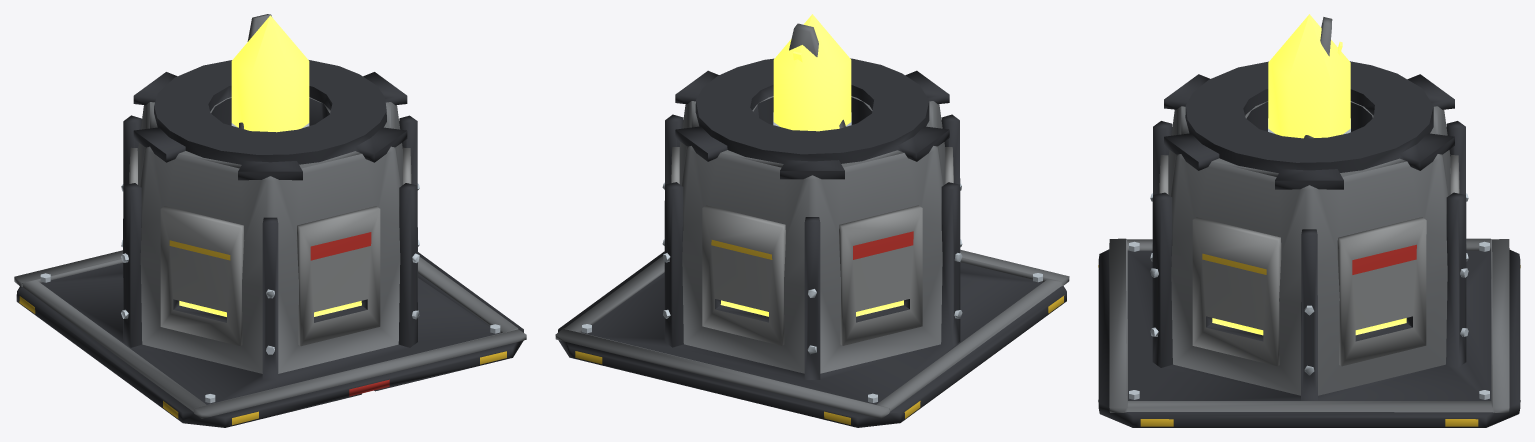
File: R4M_Blink_LOD1.fbx
3 views of the same model, side by side, from view 1: azimuth 30°, elevation 25°; view 2: azimuth 150°, elevation 25°; view 3: azimuth 270°, elevation 25° (orthographic). The views are drawn at different scales.
Parts seen in each view (by area): view 1: R4M_Blink_Housing_LOD1, R4M_Blink_Crystal_LOD1; view 2: R4M_Blink_Housing_LOD1, R4M_Blink_Crystal_LOD1, R4M_Blink_Petal_1_LOD1; view 3: R4M_Blink_Housing_LOD1, R4M_Blink_Crystal_LOD1, R4M_Blink_Petal_1_LOD1.
Part boxes in pixels (x1,y1,x2,y2): R4M_Blink_Housing_LOD1: [14, 60, 526, 427]; R4M_Blink_Crystal_LOD1: [231, 15, 309, 132]; R4M_Blink_Housing_LOD1: [555, 58, 1069, 427]; R4M_Blink_Crystal_LOD1: [773, 14, 851, 131]; R4M_Blink_Petal_1_LOD1: [789, 23, 845, 128]; R4M_Blink_Housing_LOD1: [1098, 61, 1520, 427]; R4M_Blink_Crystal_LOD1: [1268, 14, 1350, 138]; R4M_Blink_Petal_1_LOD1: [1304, 17, 1342, 138].
Bounding box in the file's own units: 0.5108 × 0.435 × 0.5108.
